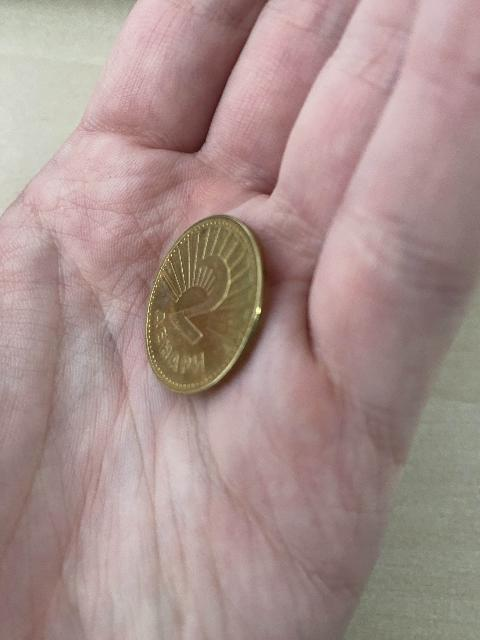coin: (147, 216, 263, 393)
